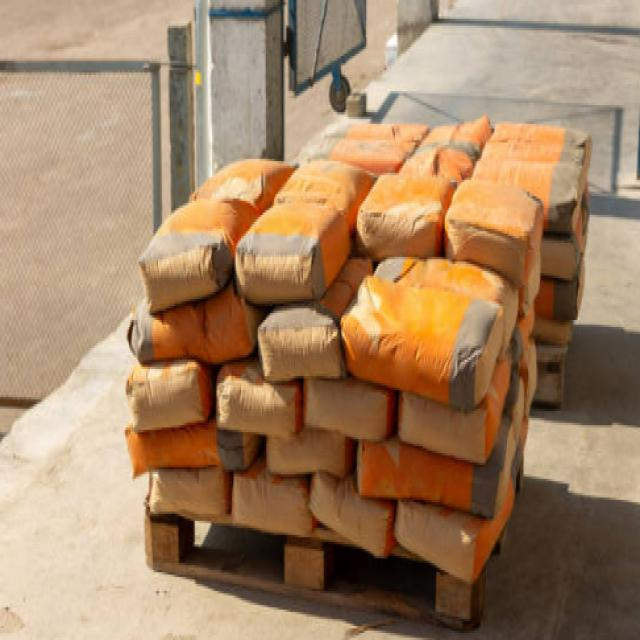KantongSemen: (123, 112, 592, 584), (312, 120, 590, 228), (348, 252, 509, 408), (357, 436, 515, 580), (137, 190, 233, 300), (216, 357, 302, 437), (127, 364, 211, 432)
